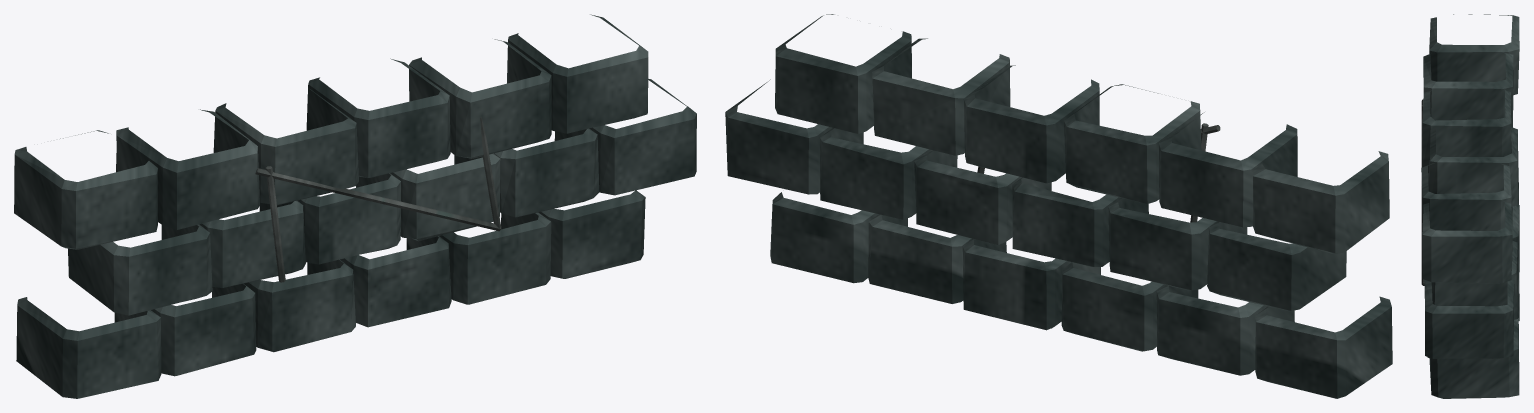
File: 0345_wall_section_20.glb
The picture shows the model from 3 angles, left to right: view 1: azimuth 30°, elevation 25°; view 2: azimuth 150°, elevation 25°; view 3: azimuth 270°, elevation 25°; orthographic projection. The views are drawn at different scales.
Visible parts, largest first — view 1: stone_dark, iron; view 2: stone_dark; view 3: stone_dark, iron.
Boxes of the visible parts, left/top/right/bottom form: stone_dark: left=14, top=14, right=696, bottom=398; iron: left=255, top=117, right=501, bottom=282; stone_dark: left=725, top=14, right=1392, bottom=398; stone_dark: left=1421, top=14, right=1519, bottom=398; iron: left=1421, top=99, right=1424, bottom=285.
Bounding box in the file's own units: 3.4 × 1.12 × 0.5885.
2 materials, 2 textured.
